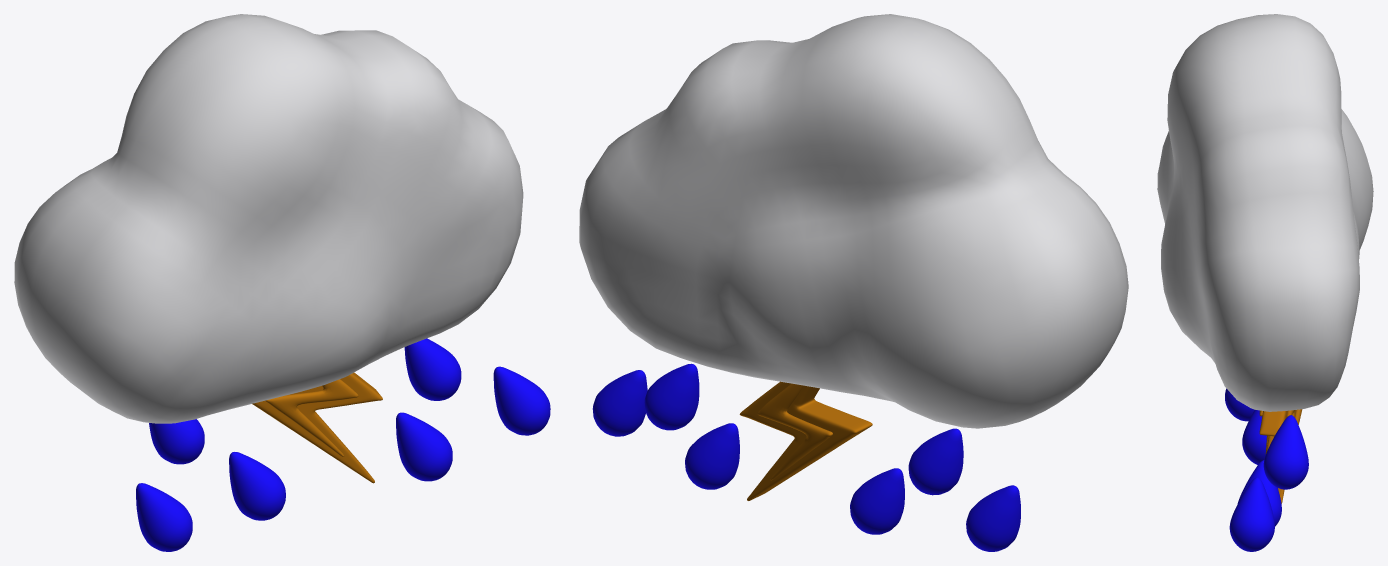
Rendered from thunder-cloud.FBX.
3 views of the same model, side by side, from view 1: azimuth 30°, elevation 25°; view 2: azimuth 150°, elevation 25°; view 3: azimuth 270°, elevation 25° (orthographic). The views are drawn at different scales.
Parts seen in each view (by area): view 1: Group26308, Group12022, Group33369, Group33370, Group33373, Group33372, Group33368, Group33371, ZBrush_defualt_group; view 2: Group26308, Group12022, Group33368, Group33371, Group33372, Group33370, Group33373, Group33369, Group1; view 3: Group26308, Group33369, Group33368, Group33372, Group33370, Group12022, Group33373.
Boxes of the visible parts, x1,y1,x2,y2 form: Group26308: [14, 14, 523, 423]; Group12022: [252, 372, 382, 483]; Group33369: [493, 366, 550, 435]; Group33370: [396, 412, 452, 481]; Group33373: [136, 483, 192, 551]; Group33372: [229, 452, 285, 520]; Group33368: [404, 338, 461, 400]; Group33371: [149, 419, 204, 464]; ZBrush_defualt_group: [265, 379, 358, 456]; Group26308: [579, 14, 1128, 428]; Group12022: [739, 381, 872, 500]; Group33368: [644, 363, 699, 430]; Group33371: [908, 428, 963, 495]; Group33372: [850, 468, 904, 534]; Group33370: [685, 423, 739, 489]; Group33373: [966, 485, 1020, 551]; Group33369: [592, 370, 647, 436]; Group1: [757, 383, 832, 480]; Group26308: [1157, 14, 1373, 411]; Group33369: [1229, 477, 1274, 551]; Group33368: [1263, 415, 1308, 489]; Group33372: [1242, 410, 1266, 464]; Group33370: [1237, 460, 1281, 526]; Group12022: [1259, 410, 1296, 503]; Group33373: [1225, 388, 1254, 421].
Size of the model in its own units: 21.4 by 20.19 by 9.12.
